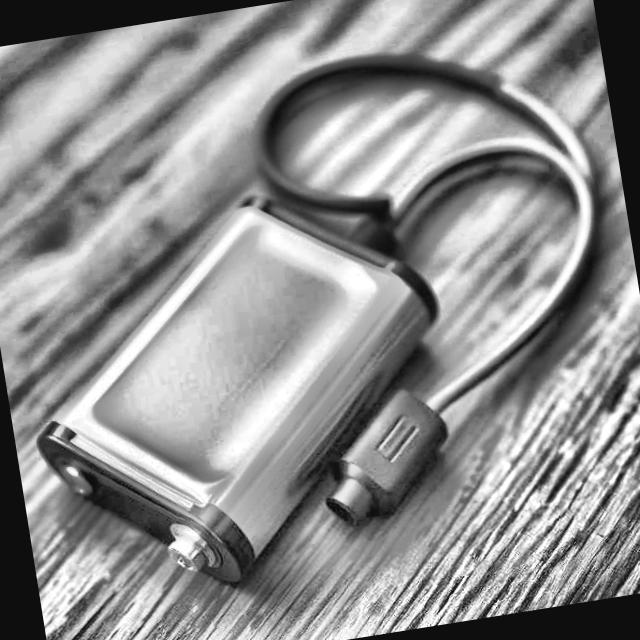Battery: (3, 172, 471, 608)
Cable: (243, 0, 635, 429)
